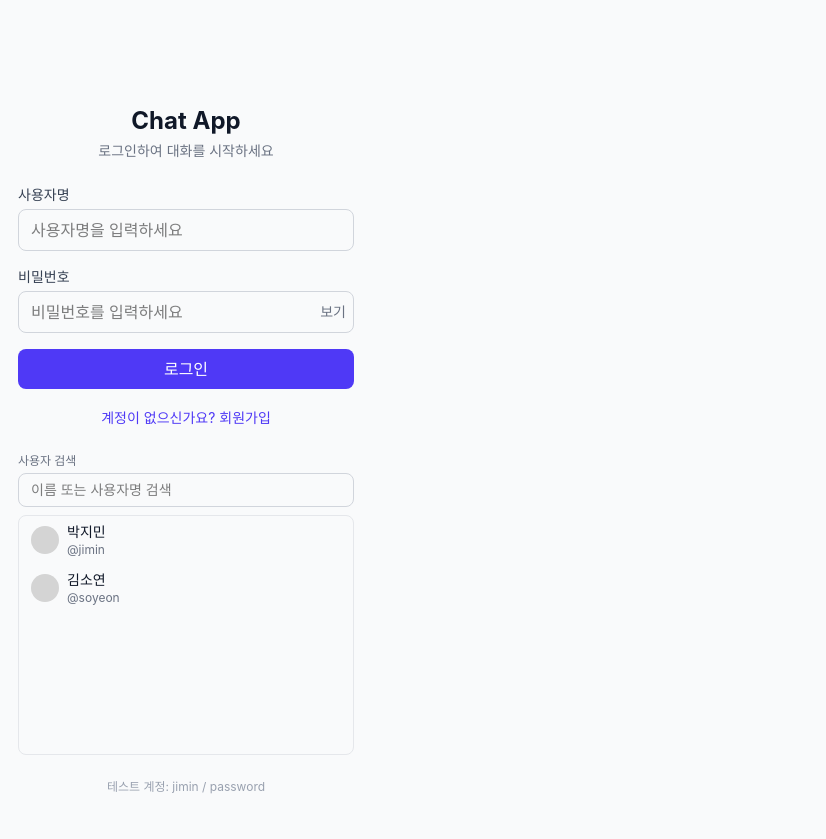
LoginPage › shows error message with invalid credentials
This screenshot has width=826, height=839.
Type "jimin" into the field labelled "사용자명".
click(186, 230); type("jimin")  # box [18,209,354,251]
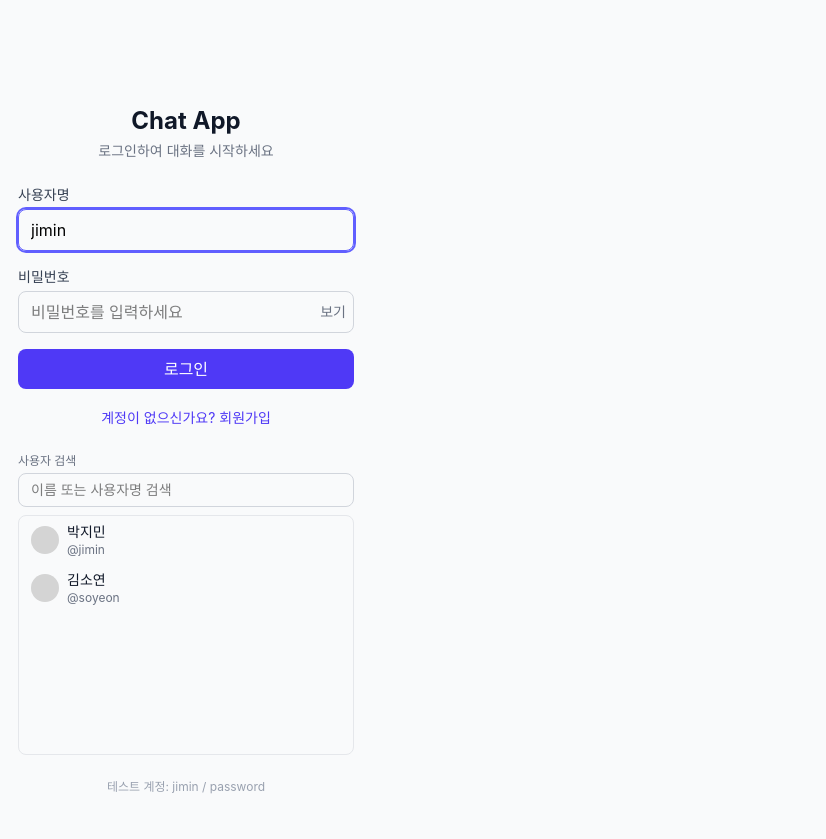
Type "wrong" into the password field labelled "비밀번호".
click(186, 312); type("wrong")  # box [18,291,354,333]
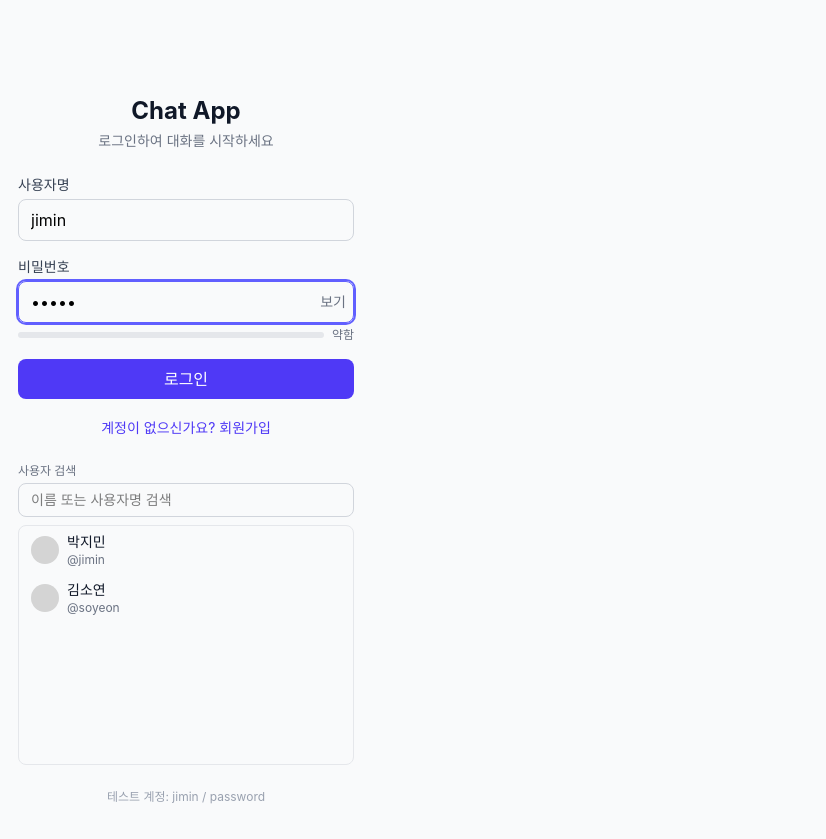
Click the button "로그인".
click(186, 379)  # box [18,359,354,399]
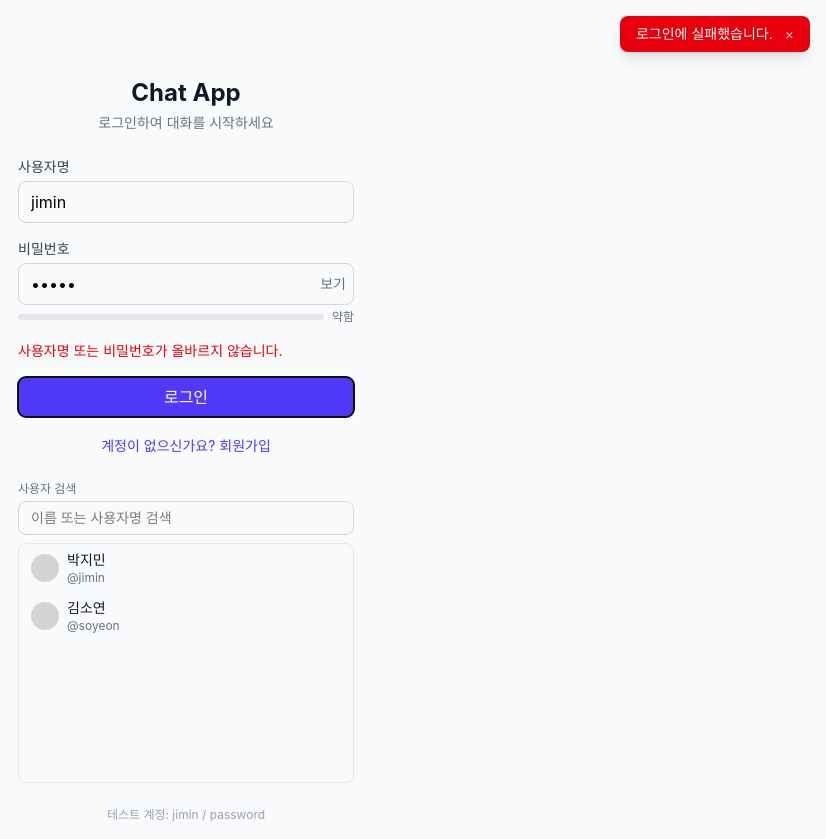
Result: the text "사용자명 또는 비밀번호가 올바르지 않습니다." is shown at [18,342,282,359]
